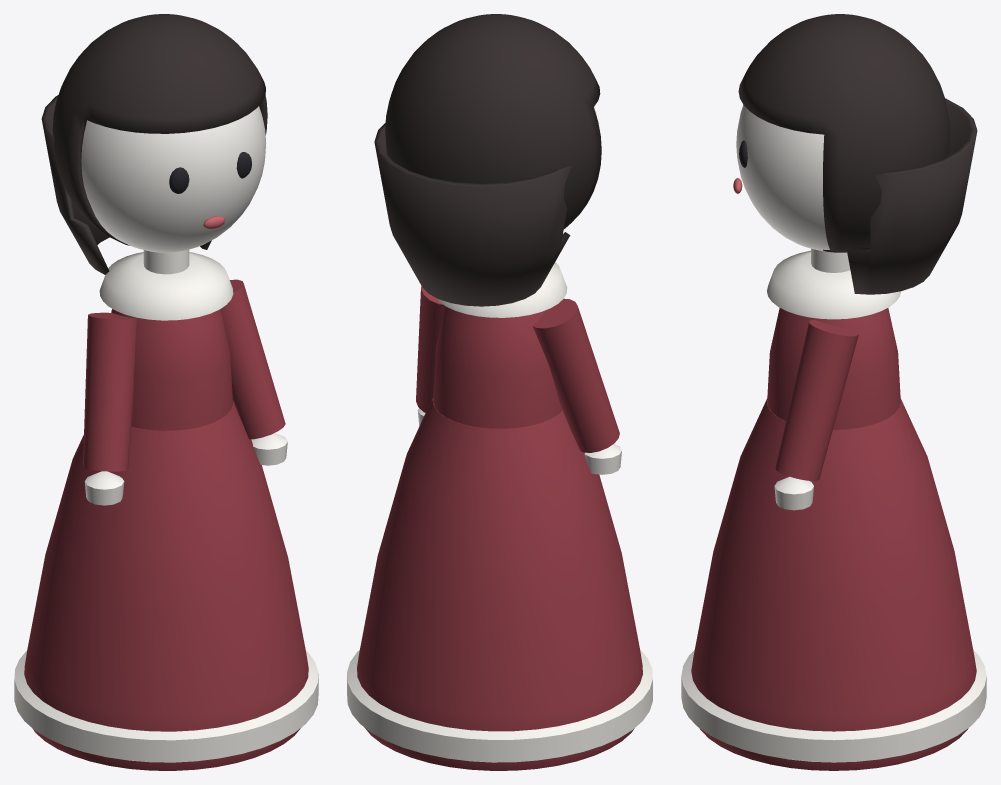
The model's file is Dim_Doll.fbx.
3 views of the same model, side by side, from view 1: azimuth 30°, elevation 25°; view 2: azimuth 150°, elevation 25°; view 3: azimuth 270°, elevation 25° (orthographic).
Parts seen in each view (by area): view 1: Doll_Dress, Doll_HairJ, Doll_HeadJ; view 2: Doll_Dress, Doll_HairJ; view 3: Doll_Dress, Doll_HairJ, Doll_HeadJ.
Boxes of the visible parts, x1=… form: Doll_Dress: x1=14, y1=249, x2=318, y2=770; Doll_HairJ: x1=41, y1=14, x2=267, y2=274; Doll_HeadJ: x1=81, y1=106, x2=266, y2=252; Doll_Dress: x1=347, y1=262, x2=652, y2=770; Doll_HairJ: x1=374, y1=14, x2=601, y2=306; Doll_Dress: x1=681, y1=248, x2=986, y2=770; Doll_HairJ: x1=738, y1=14, x2=977, y2=294; Doll_HeadJ: x1=733, y1=105, x2=829, y2=251.
Size of the model in its own units: 0.1 by 0.2486 by 0.1.
